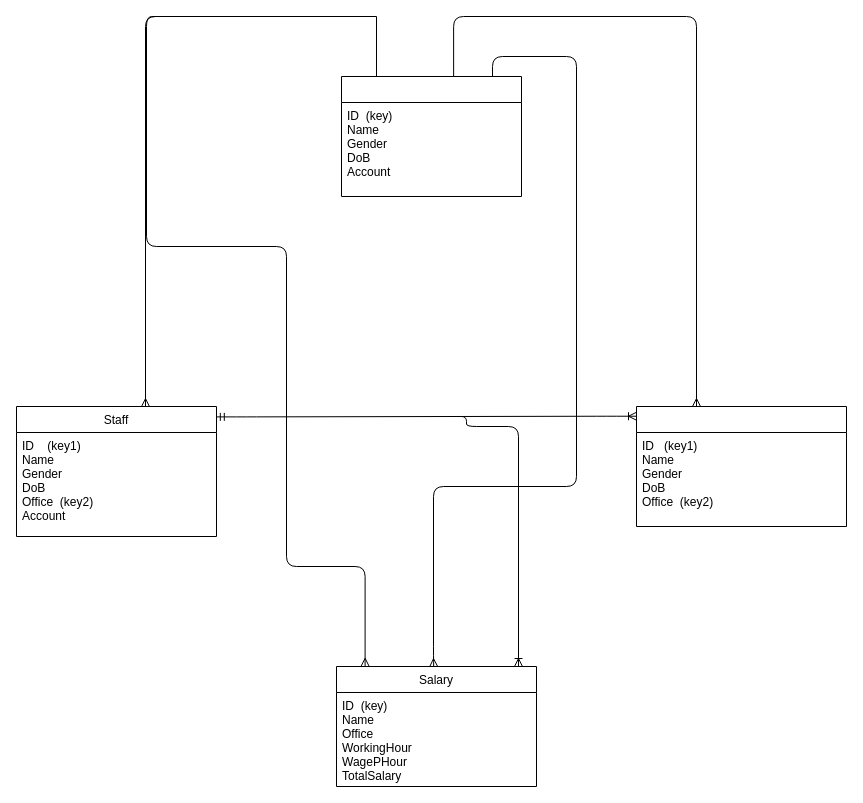
The diagram is 863 pixels wide and 803 high, and some of its shapes have lost their labels. The box of each missing label's shape, as (x1, y1, x2, y2) in pixels:
Employee: (636, 406, 846, 526)
Manager: (340, 76, 522, 196)
